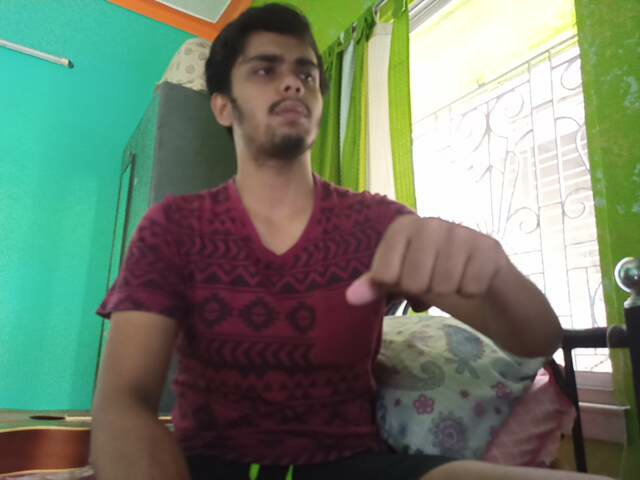Yes: (357, 204, 516, 309)
